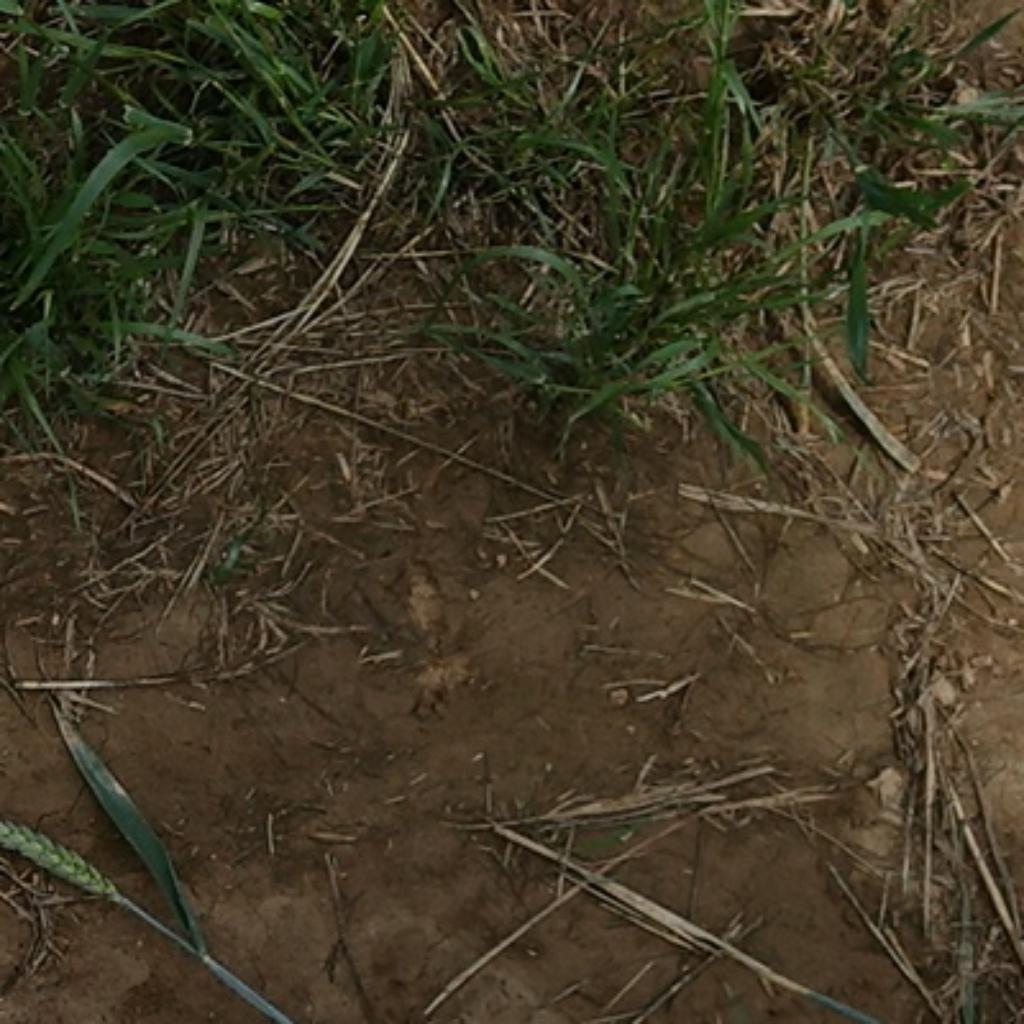0-0: (0, 804, 141, 933)
